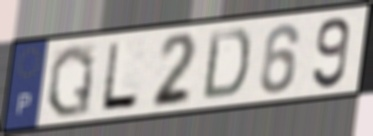2: (152, 31, 201, 111)
6: (258, 21, 301, 96)
9: (312, 16, 352, 90)
D: (200, 26, 253, 102)
L: (98, 40, 141, 112)
Q: (45, 42, 97, 120)
